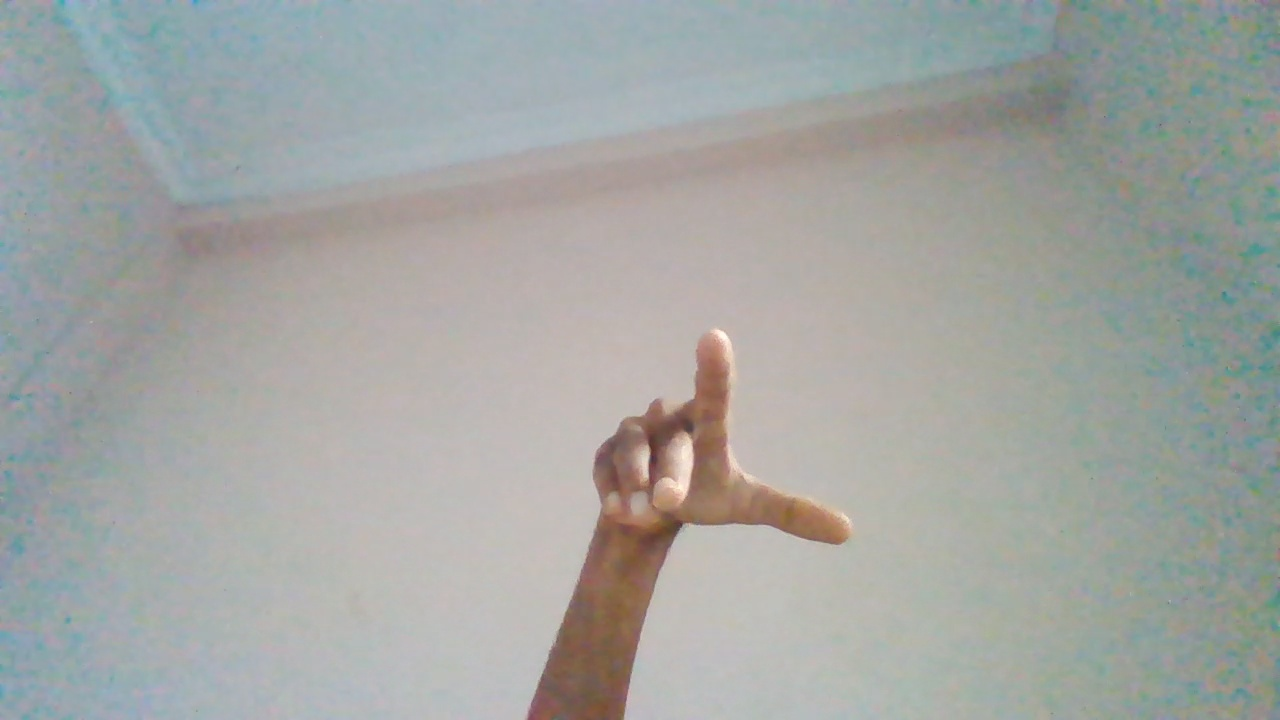ke: (589, 331, 859, 720)
